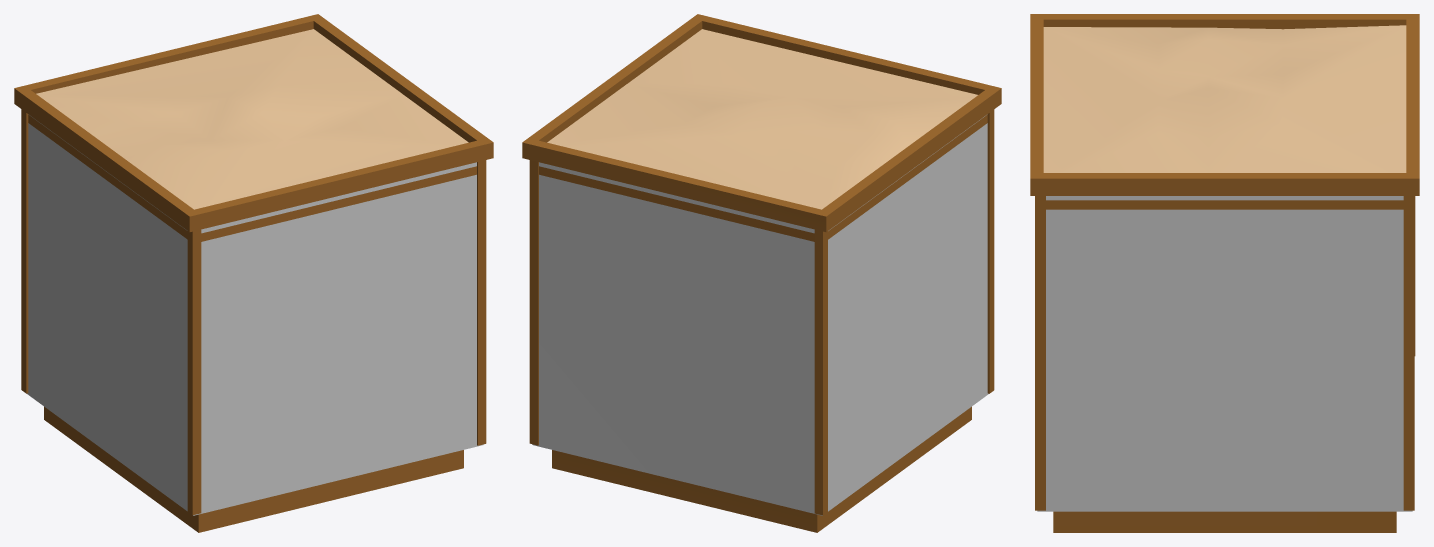
The model's file is SM_H_Building_Tide_WardenLounge_01H_ATLAS.fbx.
3 renders of one model, left to right at view 1: azimuth 30°, elevation 25°; view 2: azimuth 150°, elevation 25°; view 3: azimuth 270°, elevation 25°, orthographic. The views are drawn at different scales.
Parts seen in each view (by area): view 1: SM_H_Building_Tide_WardenLounge_01H_ATLAS; view 2: SM_H_Building_Tide_WardenLounge_01H_ATLAS; view 3: SM_H_Building_Tide_WardenLounge_01H_ATLAS.
Boxes of the visible parts, x1,y1,x2,y2 form: SM_H_Building_Tide_WardenLounge_01H_ATLAS: (14, 14, 493, 532); SM_H_Building_Tide_WardenLounge_01H_ATLAS: (522, 14, 1001, 532); SM_H_Building_Tide_WardenLounge_01H_ATLAS: (1030, 14, 1419, 532).
Bounding box in the file's own units: 87.28 × 87.28 × 92.27.
